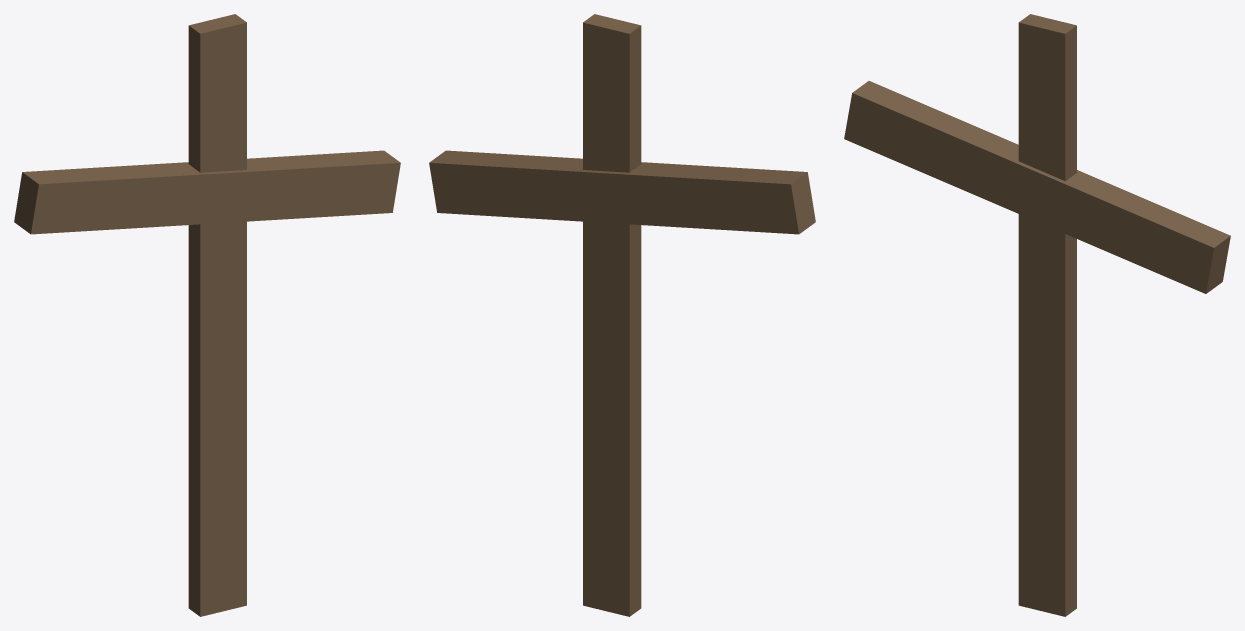
The model's file is Cross_01.fbx.
The picture shows the model from 3 angles, left to right: view 1: azimuth 30°, elevation 25°; view 2: azimuth 150°, elevation 25°; view 3: azimuth 330°, elevation 25°; orthographic projection.
Parts seen in each view (by area): view 1: Cross_01; view 2: Cross_01; view 3: Cross_01.
Boxes of the visible parts, x1=… form: Cross_01: x1=14, y1=14, x2=400, y2=616; Cross_01: x1=429, y1=14, x2=815, y2=616; Cross_01: x1=844, y1=14, x2=1230, y2=616.
Bounding box in the file's own units: 102 × 153 × 7.98.
